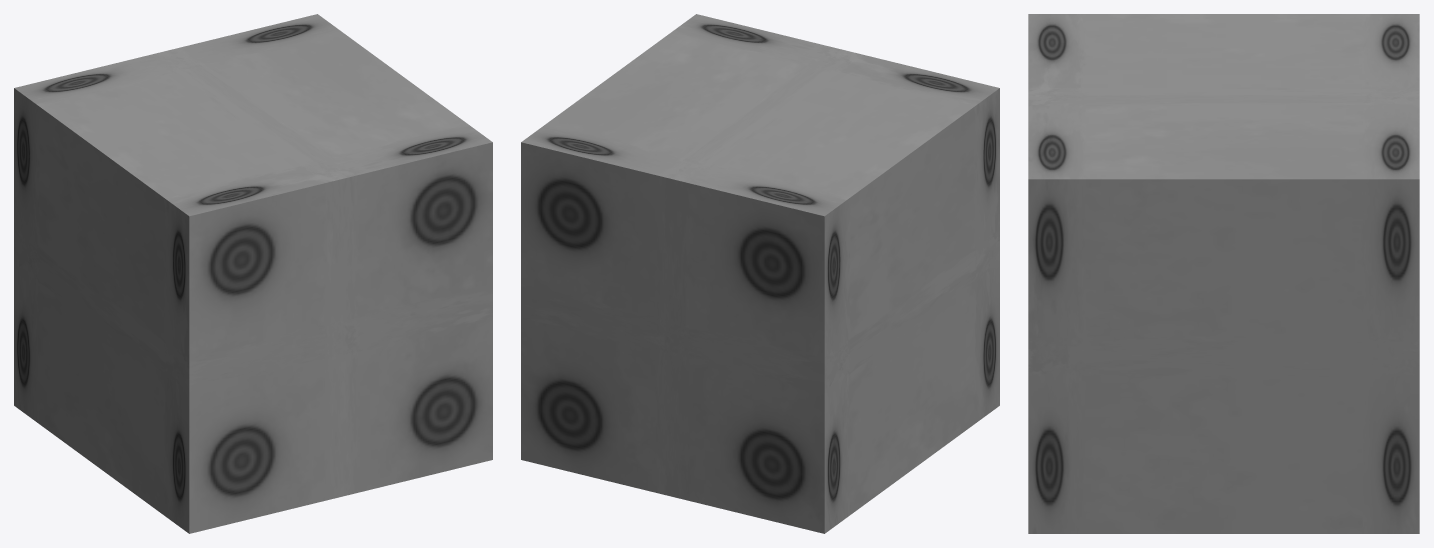
File: ScalableMesh_Ground__5.fbx
The picture shows the model from 3 angles, left to right: view 1: azimuth 30°, elevation 25°; view 2: azimuth 150°, elevation 25°; view 3: azimuth 270°, elevation 25°; orthographic projection. The views are drawn at different scales.
Parts seen in each view (by area): view 1: MAT_ScalableMesh_01; view 2: MAT_ScalableMesh_01; view 3: MAT_ScalableMesh_01.
Boxes of the visible parts, box(x1,y1,x2,y2) form: MAT_ScalableMesh_01: box(14, 14, 492, 533); MAT_ScalableMesh_01: box(521, 14, 999, 533); MAT_ScalableMesh_01: box(1028, 14, 1419, 533).
Bounding box in the file's own units: 1 × 1 × 1.
Materials: 1 (1 with a texture image).
